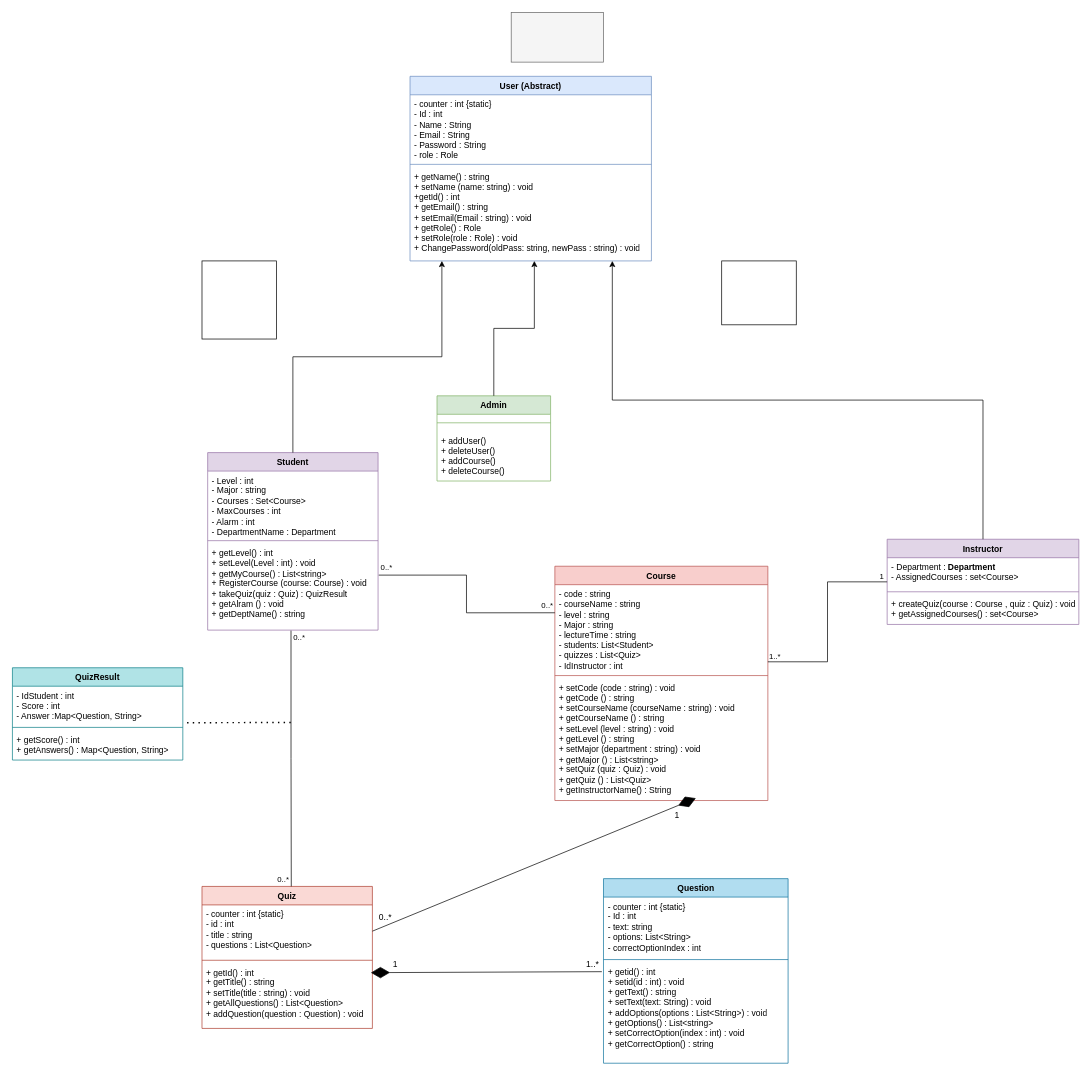
This 1091x1078 diagram has some shape labels left out. Each missing label, with the centre of its shape:
"<< enumeration >> Department Chemistry Physics Mathematics Biology" goes at [239,299].
"<< enumeration >> Role Student Instructor Admin" goes at [758,292].
"UMS" goes at [557,37].
